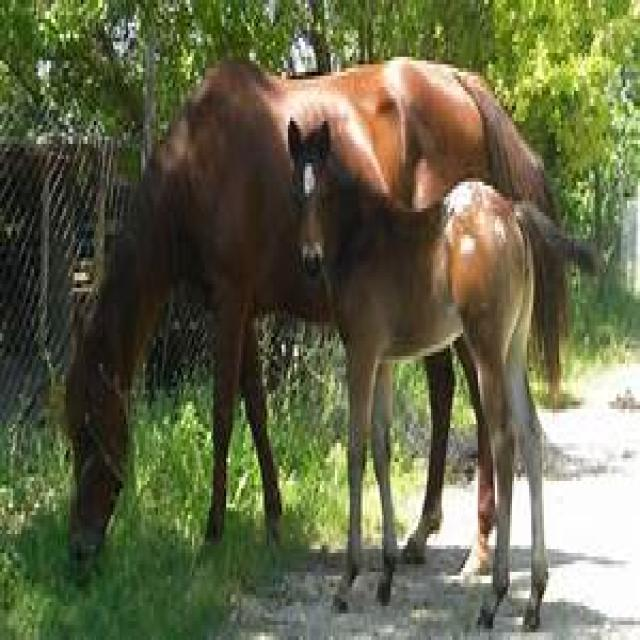horse: (66, 57, 604, 629)
